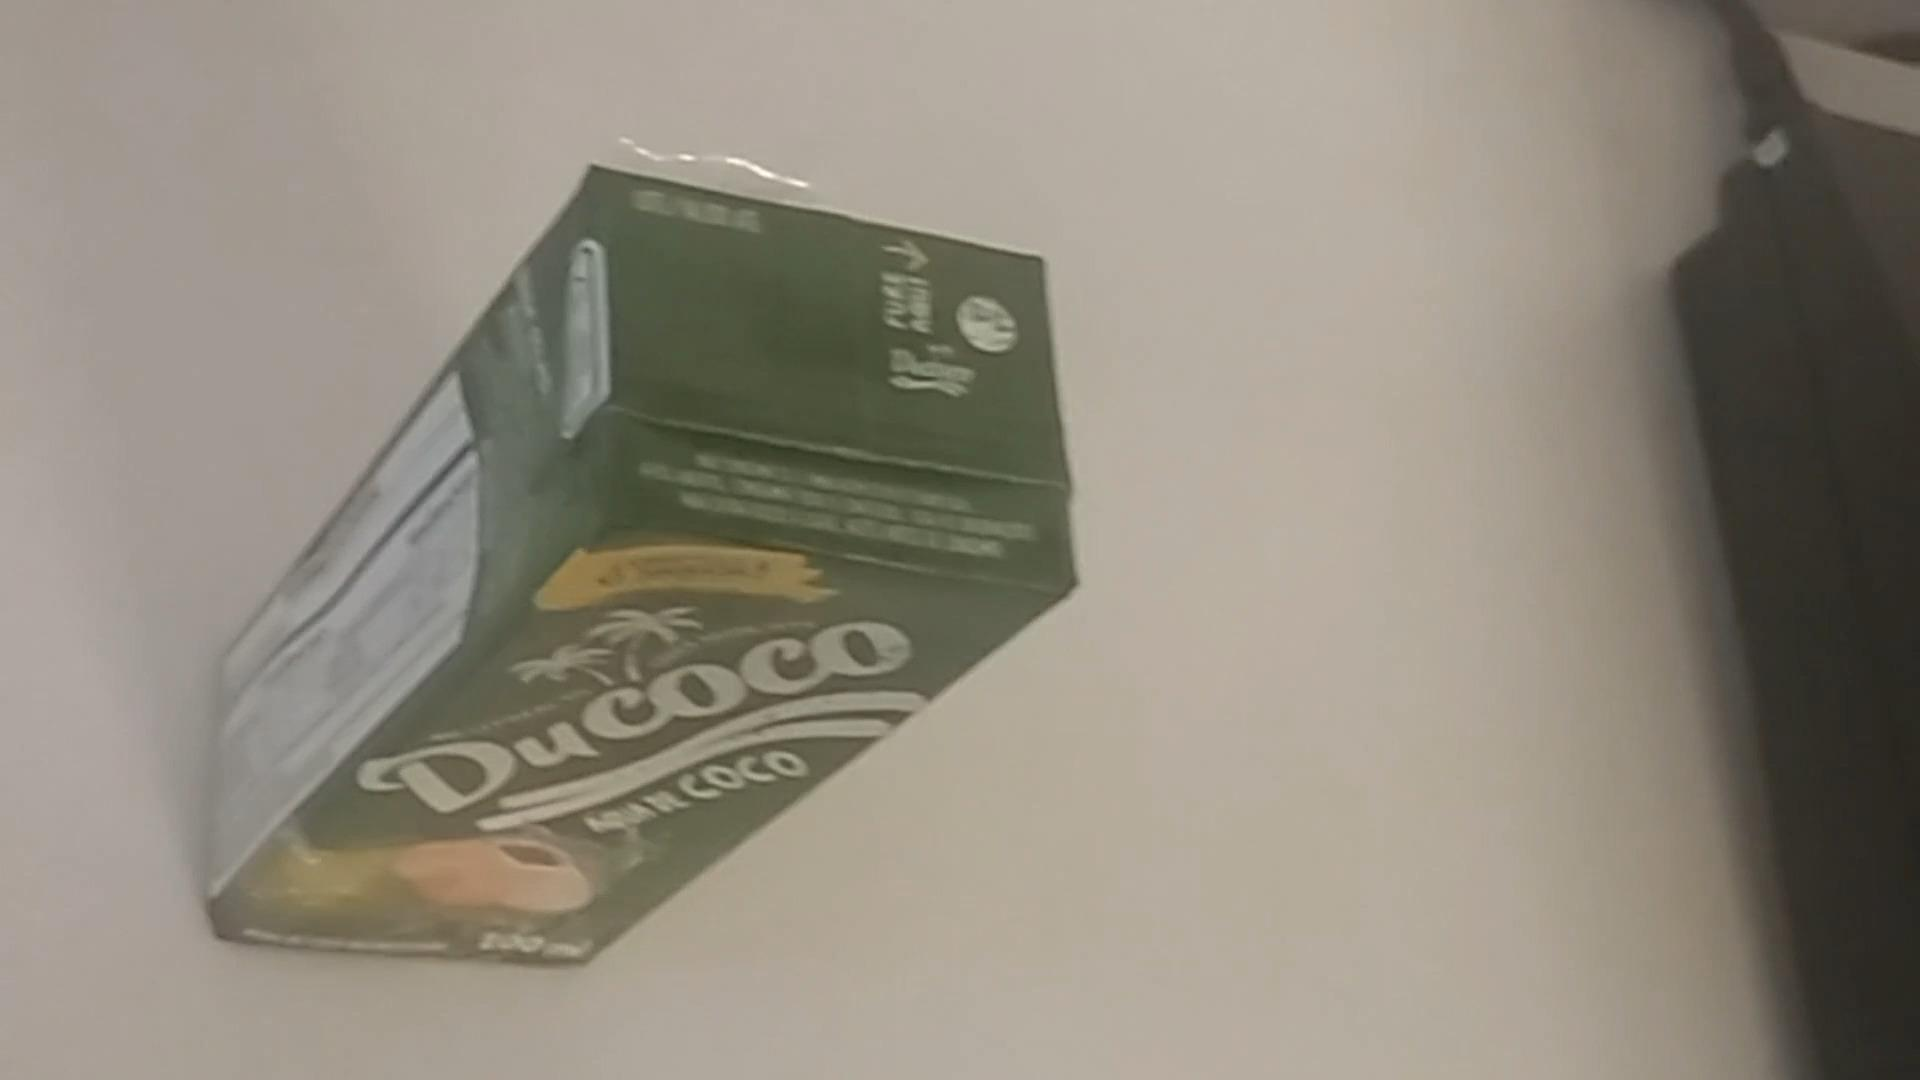coco: (210, 160, 1077, 973)
